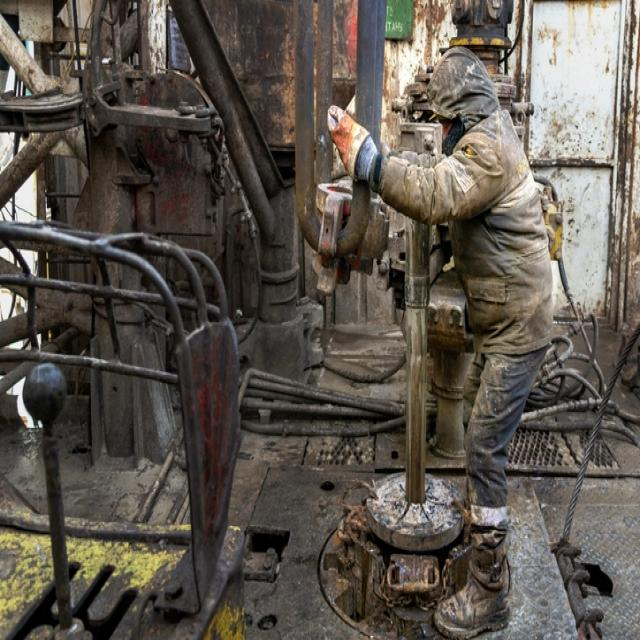glove: (325, 110, 384, 187)
no_helmet: (427, 48, 497, 156)
shoes: (433, 526, 515, 640)
